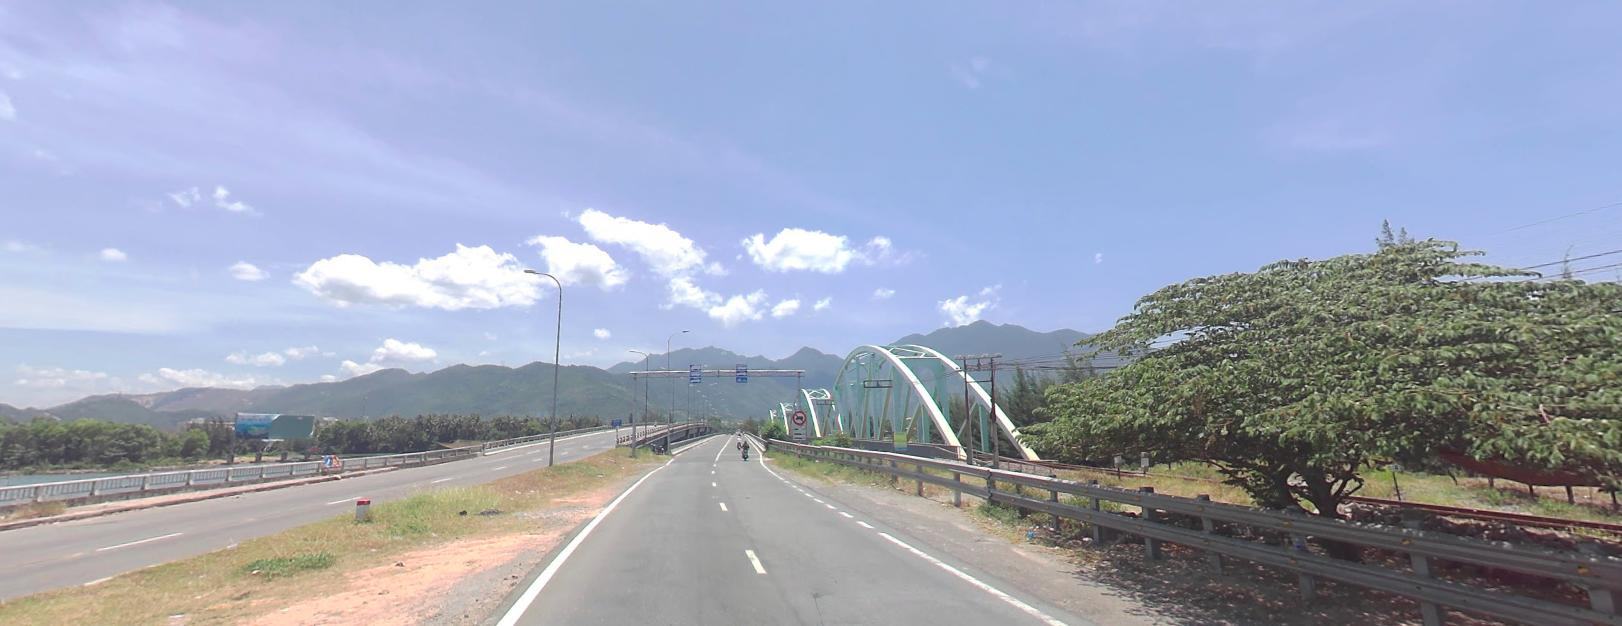Cam con lai: (791, 408, 807, 423)
Hieu lenh: (322, 455, 332, 464)
Nguy hiem: (331, 455, 340, 464)
